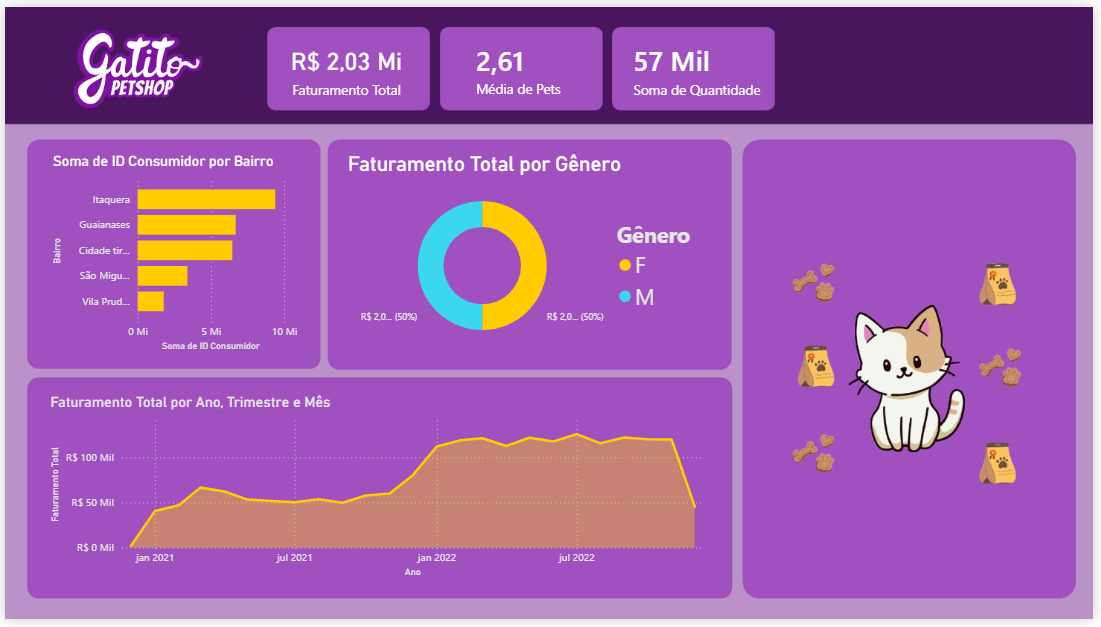

The dashboard page shown, as its layout file describes it:
{"tool":"powerbi","page":{"name":"Página 1","canvas":[1280,720],"ordinal":0},"visuals":[{"type":"cardVisual","fields":{"Data":["Avg(Clientes.Pets)"]},"box":[524.3,14.9,204.1,118.9],"z":0},{"type":"cardVisual","fields":{"Data":["Sum(Vendas.Quantidade)"]},"box":[710.8,20.3,218.9,108.1],"z":1000},{"type":"card","fields":{"Values":["Vendas.Faturamento Total"]},"box":[316.2,25.7,171.6,95.9],"z":2000},{"type":"clusteredBarChart","fields":{"Y":["Sum(Clientes.ID Consumidor)"],"Category":["Clientes.Bairro"]},"box":[51.4,170.3,297.3,239.2],"z":3000},{"type":"donutChart","fields":{"Category":["Clientes.Gênero"],"Y":["Vendas.Faturamento Total"]},"box":[398.6,170.3,439.2,240.5],"z":4000},{"type":"lineChart","fields":{"Category":["Vendas.Data de compra.Variation.Hierarquia de datas.Ano","Vendas.Data de compra.Variation.Hierarquia de datas.Trimestre","Vendas.Data de compra.Variation.Hierarquia de datas.Mês","Vendas.Data de compra.Variation.Hierarquia de datas.Dia"],"Y":["Vendas.Faturamento Total"]},"box":[48.6,454.1,789.2,221.6],"z":5000},{"type":"image","box":[843.2,170.3,436.5,533.8],"z":6000}]}

Visuals, with their boxes in screenshot pixels (x1, y1, x2, y2), scaled from the page's 1280x720 canvas onto the 1101x627 screenshot:
cardVisual - Avg(Clientes.Pets): crop(451, 13, 627, 117)
cardVisual - Sum(Vendas.Quantidade): crop(611, 18, 800, 112)
card - Vendas.Faturamento Total: crop(272, 22, 420, 106)
clusteredBarChart - Sum(Clientes.ID Consumidor) x Clientes.Bairro: crop(44, 148, 300, 357)
donutChart - Clientes.Gênero x Vendas.Faturamento Total: crop(343, 148, 721, 358)
lineChart - Vendas.Data de compra.Variation.Hierarquia de datas.Ano x Vendas.Data de compra.Variation.Hierarquia de datas.Trimestre: crop(42, 395, 721, 588)
image: crop(725, 148, 1100, 613)
